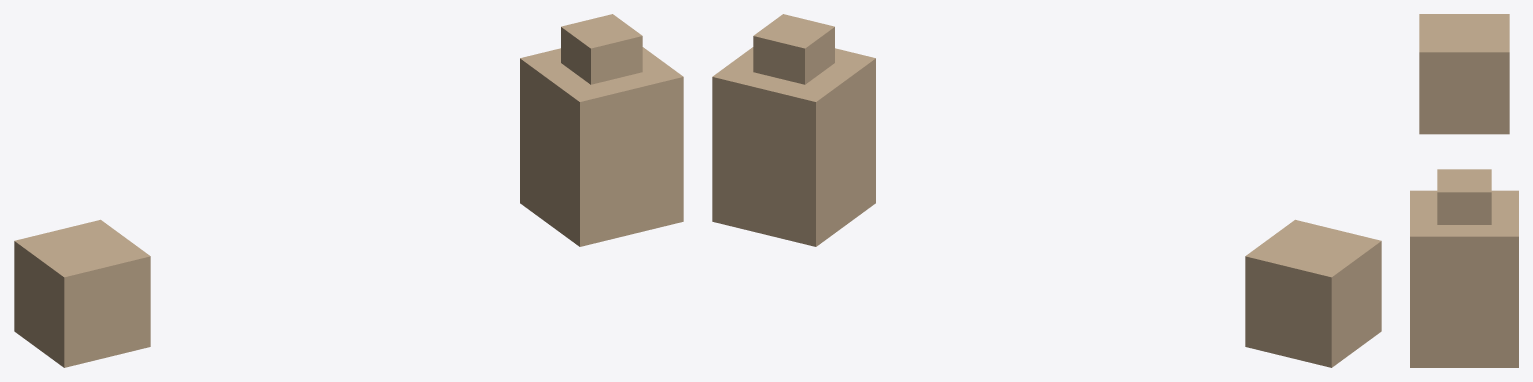
File: props_merged.glb
3 renders of one model, left to right at view 1: azimuth 30°, elevation 25°; view 2: azimuth 150°, elevation 25°; view 3: azimuth 270°, elevation 25°, orthographic. The views are drawn at different scales.
Visible parts, largest first — view 1: Props; view 2: Props; view 3: Props.
Part boxes in pixels (x1=…): Props: x1=14, y1=14, x2=683, y2=367; Props: x1=712, y1=14, x2=1381, y2=367; Props: x1=1410, y1=14, x2=1518, y2=367.
Size of the model in its own units: 3.55 by 1 by 0.6.
